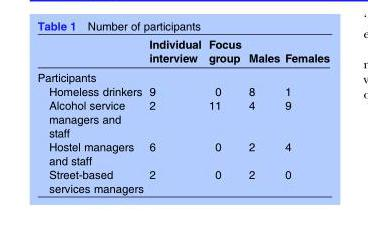table: (36, 36, 328, 194)
table column: (36, 36, 145, 194), (145, 36, 204, 194), (281, 36, 328, 194), (204, 36, 244, 194), (244, 36, 281, 194)
table column header: (36, 36, 328, 67)
table projected row header: (36, 67, 328, 83)
table row: (36, 97, 328, 139), (36, 36, 328, 67), (36, 139, 328, 167), (36, 167, 328, 194), (36, 67, 328, 83), (36, 83, 328, 97)
